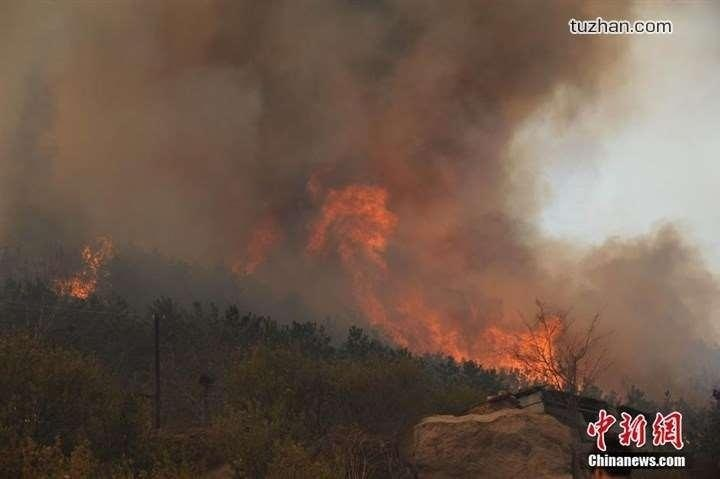fire: (299, 175, 571, 395), (52, 233, 118, 299)
